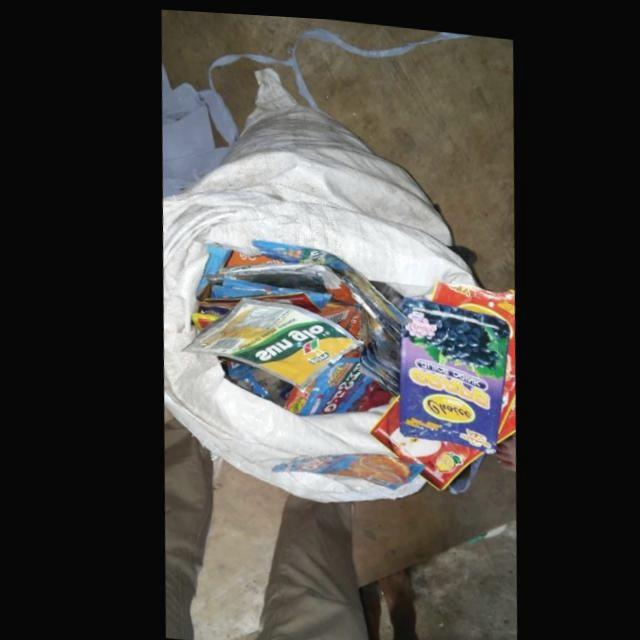food_wrapper: (394, 290, 508, 447), (176, 294, 358, 385), (248, 236, 402, 322), (264, 449, 416, 485), (279, 354, 371, 413)
